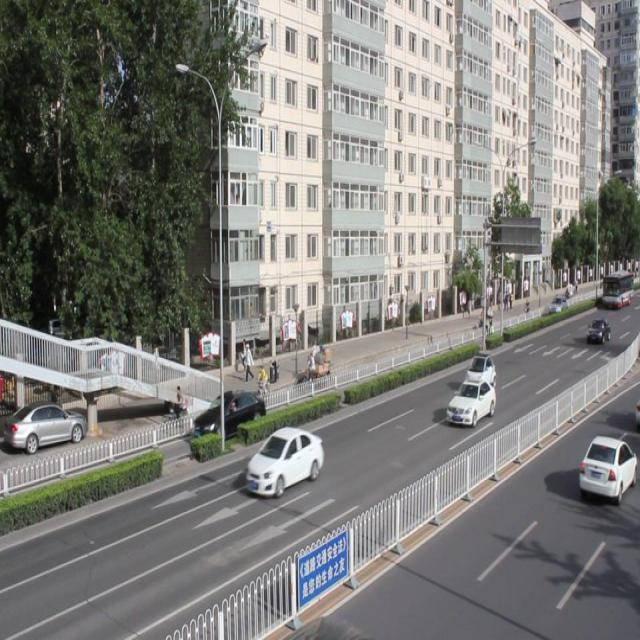car: (243, 426, 323, 496), (576, 433, 640, 499), (193, 387, 265, 440), (445, 377, 494, 425), (460, 351, 494, 390)
